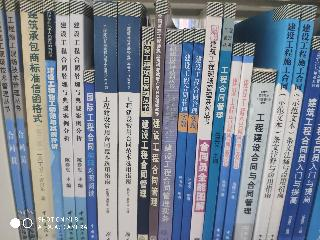book-spine: (264, 5, 316, 240), (253, 4, 301, 240), (273, 37, 320, 240), (186, 2, 224, 240), (21, 0, 56, 240), (229, 67, 277, 240), (201, 3, 236, 240), (5, 0, 37, 240), (0, 1, 28, 240), (212, 43, 243, 240), (224, 43, 254, 240), (179, 29, 205, 239), (146, 1, 168, 240), (118, 2, 140, 240), (157, 30, 182, 239), (95, 1, 116, 240), (44, 1, 64, 240), (56, 0, 76, 239), (171, 29, 193, 240), (70, 1, 87, 239), (137, 27, 153, 239), (85, 71, 97, 239)
